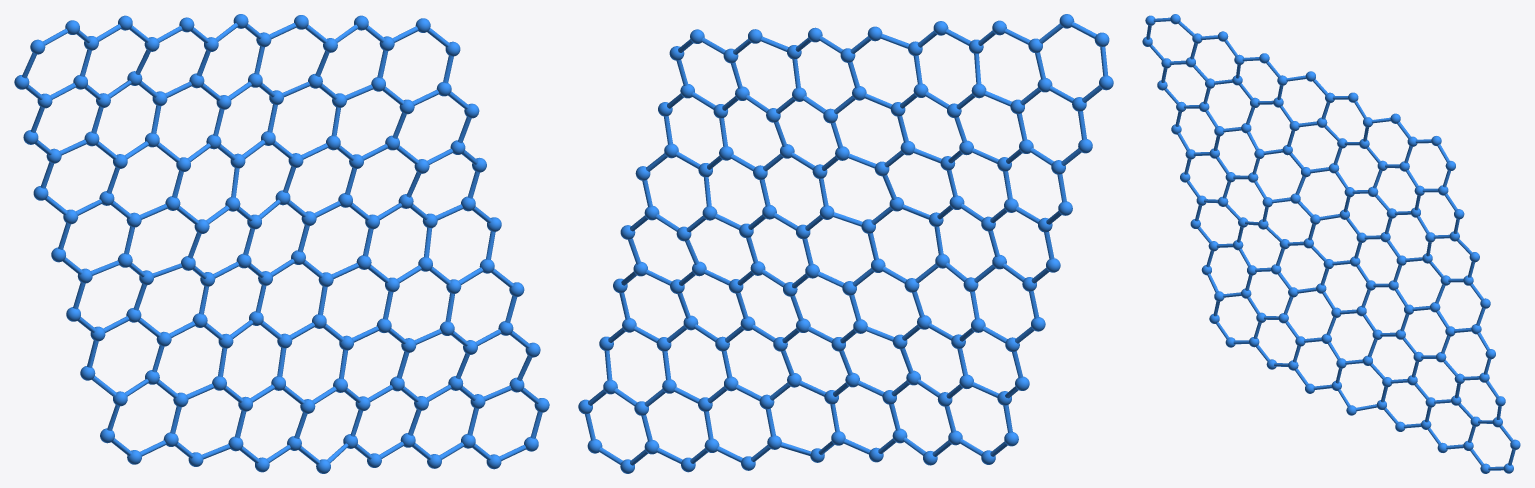
3 renders of one model, left to right at view 1: azimuth 30°, elevation 25°; view 2: azimuth 150°, elevation 25°; view 3: azimuth 330°, elevation 25°, orthographic. The views are drawn at different scales.
Visible parts, largest first — view 1: Nondestructive Graphene; view 2: Nondestructive Graphene; view 3: Nondestructive Graphene.
Part boxes in pixels (left/top/right/bottom): Nondestructive Graphene: left=14, top=14, right=549, bottom=473; Nondestructive Graphene: left=578, top=14, right=1113, bottom=473; Nondestructive Graphene: left=1142, top=14, right=1520, bottom=473.
Bounding box in the file's own units: 1.43 × 1.43 × 0.1182.
